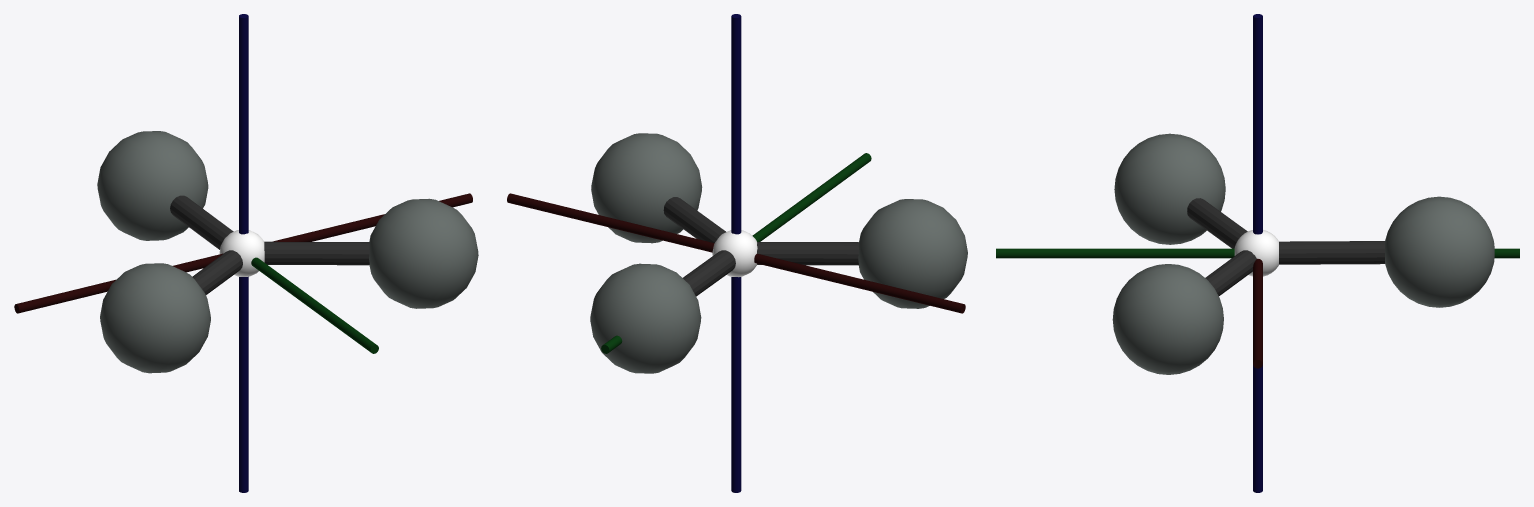
The model's file is trpev_trigplanar.obj.
3 views of the same model, side by side, from view 1: azimuth 30°, elevation 25°; view 2: azimuth 150°, elevation 25°; view 3: azimuth 270°, elevation 25° (orthographic).
Parts seen in each view (by area): view 1: ShapeSphere.005_ShapeSphere.006, ShapeSphere.006_ShapeSphere.008, ShapeSphere.004_ShapeSphere.005, Cylinder_004_001.002_Cylinder.000, ShapeCylinder.006_ShapeCylinder.011, ShapeCylinder.000_ShapeCylinder.013, ShapeSphere.003_ShapeSphere.004, ShapeCylinder.007_ShapeCylinder.012; view 2: Cylinder_004_001.002_Cylinder.000, ShapeSphere.004_ShapeSphere.005, ShapeSphere.005_ShapeSphere.006, ShapeSphere.006_ShapeSphere.008, ShapeCylinder.007_ShapeCylinder.012, ShapeCylinder.006_ShapeCylinder.011, ShapeSphere.003_ShapeSphere.004, ShapeCylinder.000_ShapeCylinder.013; view 3: ShapeSphere.006_ShapeSphere.008, ShapeSphere.004_ShapeSphere.005, ShapeSphere.005_ShapeSphere.006, Cylinder_004_001.002_Cylinder.000, ShapeCylinder.000_ShapeCylinder.013, ShapeCylinder.007_ShapeCylinder.012, ShapeSphere.003_ShapeSphere.004, ShapeCylinder.006_ShapeCylinder.011.
Part boxes in pixels (x1,y1,x2,y2): ShapeSphere.005_ShapeSphere.006: (100,263,210,373); ShapeSphere.006_ShapeSphere.008: (369,198,478,308); ShapeSphere.004_ShapeSphere.005: (97,131,208,240); Cylinder_004_001.002_Cylinder.000: (14,14,472,492); ShapeCylinder.006_ShapeCylinder.011: (264,241,369,265); ShapeCylinder.000_ShapeCylinder.013: (170,195,233,249); ShapeSphere.003_ShapeSphere.004: (219,230,264,276); ShapeCylinder.007_ShapeCylinder.012: (192,250,242,294); Cylinder_004_001.002_Cylinder.000: (507,14,965,492); ShapeSphere.004_ShapeSphere.005: (590,263,701,373); ShapeSphere.005_ShapeSphere.006: (858,199,967,308); ShapeSphere.006_ShapeSphere.008: (591,133,702,243); ShapeCylinder.007_ShapeCylinder.012: (757,242,858,265); ShapeCylinder.006_ShapeCylinder.011: (663,197,725,242); ShapeSphere.003_ShapeSphere.004: (712,230,757,277); ShapeCylinder.000_ShapeCylinder.013: (683,250,735,296); ShapeSphere.006_ShapeSphere.008: (1112,264,1223,374); ShapeSphere.004_ShapeSphere.005: (1385,196,1494,307); ShapeSphere.005_ShapeSphere.006: (1114,133,1225,244); Cylinder_004_001.002_Cylinder.000: (996,14,1519,492); ShapeCylinder.000_ShapeCylinder.013: (1279,241,1384,264); ShapeCylinder.007_ShapeCylinder.012: (1187,198,1247,248); ShapeSphere.003_ShapeSphere.004: (1234,230,1278,276); ShapeCylinder.006_ShapeCylinder.011: (1205,250,1256,295).
Bounding box in the file's own units: 12.54 × 12.54 × 12.54.
